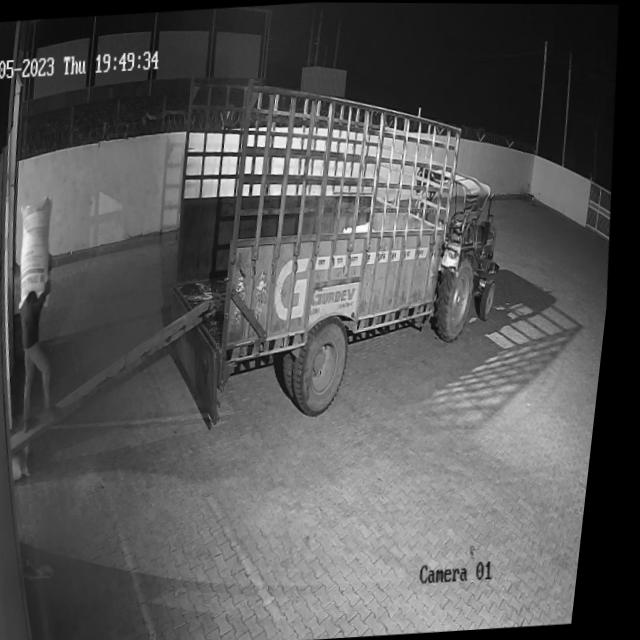sack: (14, 192, 66, 310)
